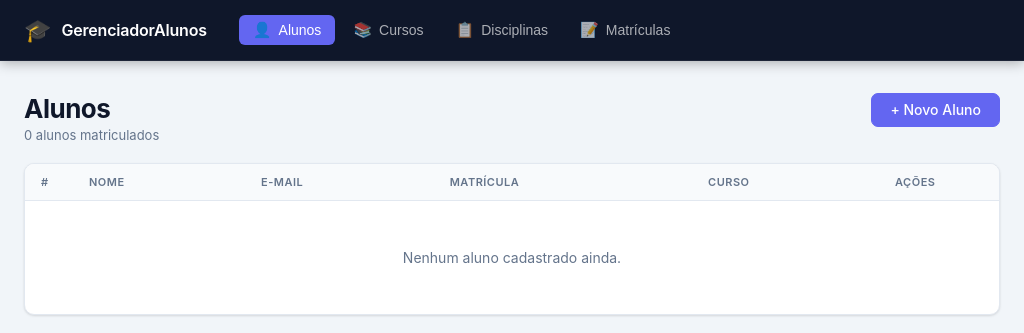
App › navega para Disciplinas ao clicar na aba
Click the button "📋 Disciplinas" at (502, 30), box [442,15,562,45]
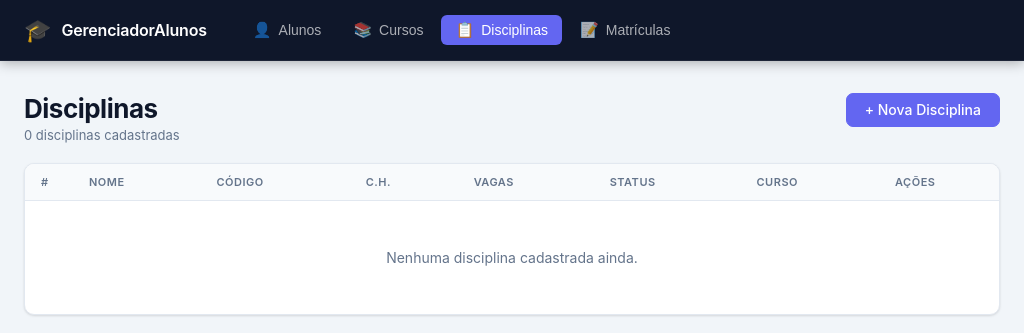
Check: the text "disciplinas cadastradas" is shown, box [24,127,180,143]
